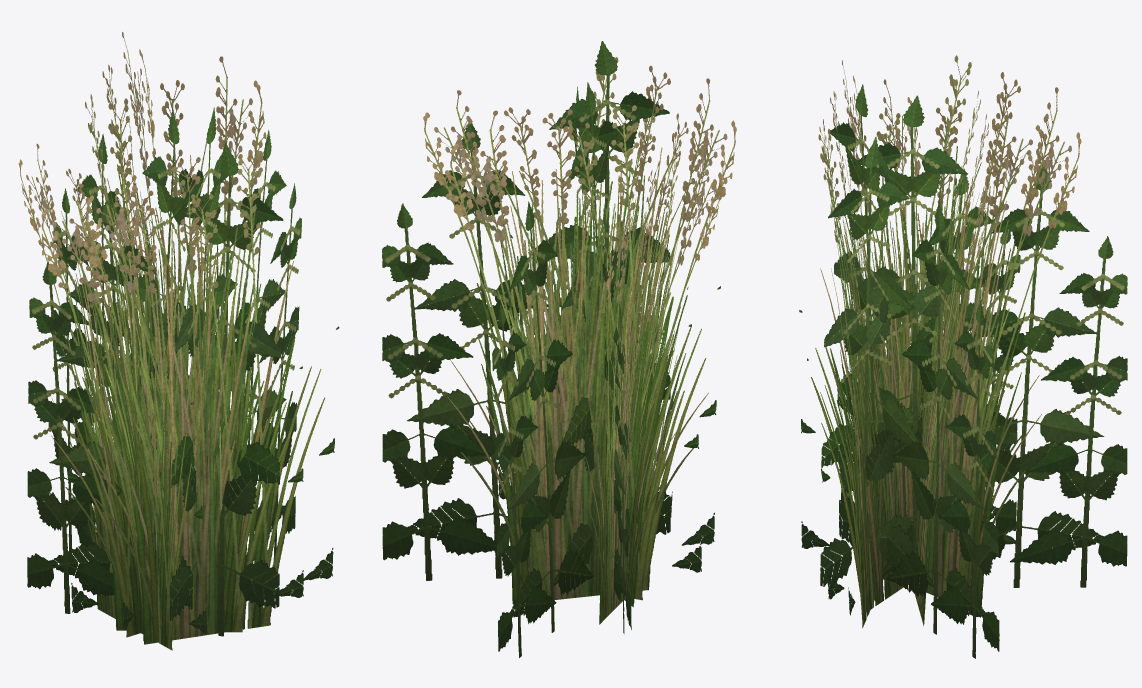
Rendered from grass_tall.glb.
3 renders of one model, left to right at view 1: azimuth 30°, elevation 25°; view 2: azimuth 150°, elevation 25°; view 3: azimuth 270°, elevation 25°, orthographic. The views are drawn at different scales.
Parts seen in each view (by area): view 1: grass_tall; view 2: grass_tall; view 3: grass_tall.
Part boxes in pixels (box(x1,y1,x2,y2)): grass_tall: box(18, 32, 339, 650); grass_tall: box(382, 41, 736, 657); grass_tall: box(799, 55, 1127, 658).
Bounding box in the file's own units: 0.5418 × 0.8896 × 0.5552.
1 material, 1 textured.
